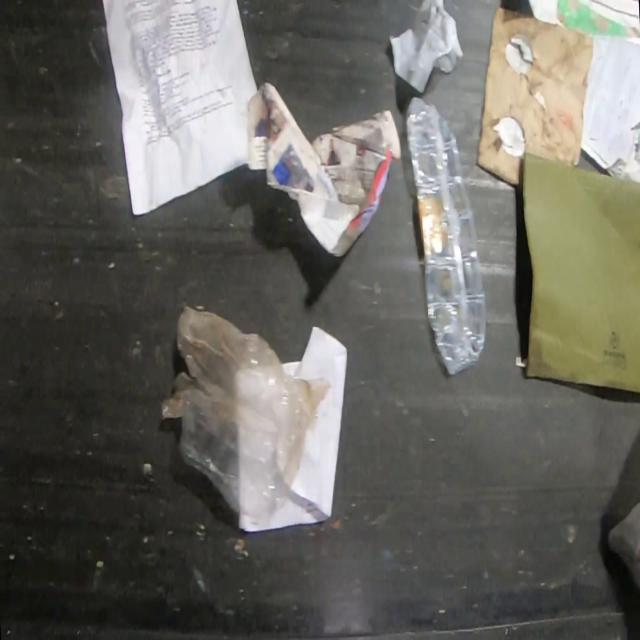cardboard: (522, 152, 640, 396), (477, 7, 596, 190)
rigid_plastic: (404, 93, 488, 376)
soft_plastic: (162, 300, 327, 522), (606, 503, 640, 585)
